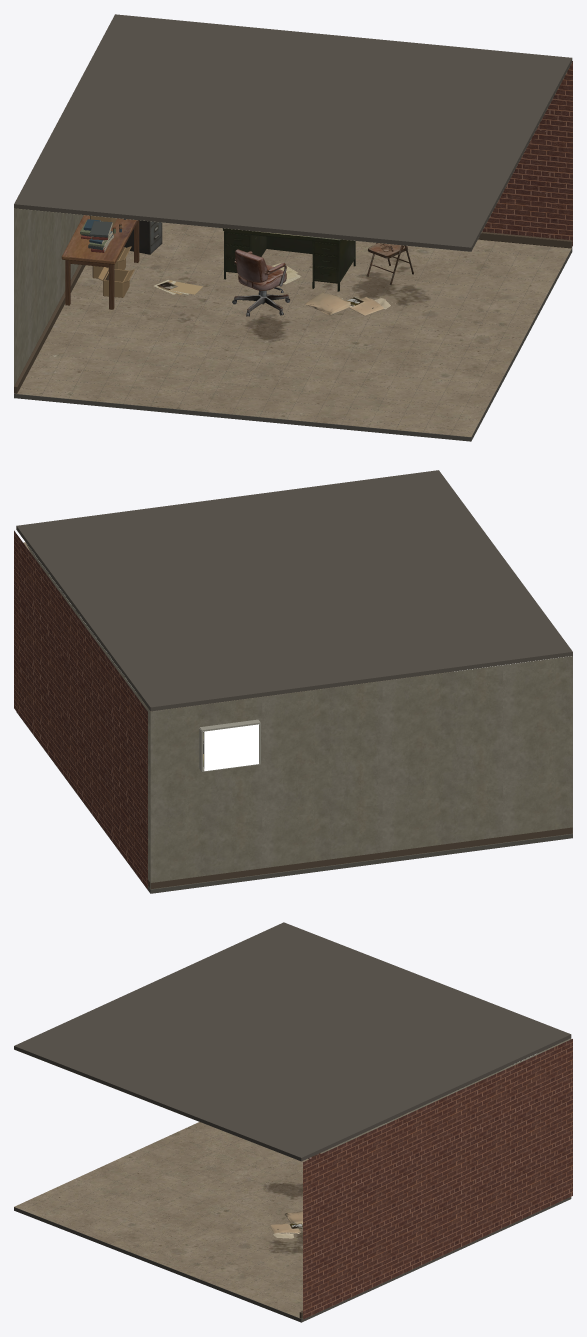
File: room-DJiCxxOG.glb
3 views of the same model, one above another, from view 1: azimuth 30°, elevation 25°; view 2: azimuth 150°, elevation 25°; view 3: azimuth 270°, elevation 25° (orthographic). The views are drawn at different scales.
Visible parts, largest first — view 1: object_0008_0008_2, object_0008_0008_1, object_0008_0008_5, object_0008_0008_7, object_0008_0008_0, object_0004_Mesh, object_0002_model, object_0008_0008_13, object_0010_0010_0, object_0013_model, object_0010_0010_9, object_0010_0010_1 (+2 smaller); view 2: object_0008_0008_2, object_0008_0008_7, object_0008_0008_5, object_0008_0008_13, object_0008_0008_0, object_0008_0008_11, object_0008_0008_4, object_0008_0008_8; view 3: object_0008_0008_2, object_0008_0008_5, object_0008_0008_1, object_0008_0008_0, object_0013_model, object_0008_0008_4.
Part boxes in pixels (left/top/right/bottom): object_0008_0008_2: left=14, top=14, right=572, bottom=251; object_0008_0008_1: left=15, top=222, right=571, bottom=436; object_0008_0008_5: left=482, top=61, right=572, bottom=246; object_0008_0008_7: left=14, top=208, right=83, bottom=386; object_0008_0008_0: left=14, top=229, right=572, bottom=441; object_0004_Mesh: left=223, top=228, right=355, bottom=291; object_0002_model: left=232, top=249, right=289, bottom=316; object_0008_0008_13: left=14, top=231, right=572, bottom=393; object_0010_0010_0: left=61, top=215, right=137, bottom=264; object_0013_model: left=304, top=292, right=395, bottom=315; object_0010_0010_9: left=90, top=216, right=134, bottom=297; object_0010_0010_1: left=65, top=220, right=139, bottom=309; object_0008_0008_2: left=16, top=470, right=572, bottom=711; object_0008_0008_7: left=150, top=656, right=572, bottom=889; object_0008_0008_5: left=14, top=530, right=147, bottom=889; object_0008_0008_13: left=148, top=827, right=572, bottom=888; object_0008_0008_0: left=16, top=712, right=572, bottom=893; object_0008_0008_11: left=204, top=724, right=258, bottom=770; object_0008_0008_4: left=26, top=543, right=150, bottom=889; object_0008_0008_8: left=199, top=719, right=260, bottom=771; object_0008_0008_2: left=14, top=922, right=571, bottom=1161; object_0008_0008_5: left=303, top=1039, right=572, bottom=1319; object_0008_0008_1: left=14, top=1122, right=378, bottom=1317; object_0008_0008_0: left=14, top=1126, right=571, bottom=1322; object_0013_model: left=270, top=1211, right=302, bottom=1239; object_0008_0008_4: left=320, top=1038, right=571, bottom=1153.
Bounding box in the file's own units: 15.55 × 5.05 × 15.55.
48 materials, 20 textured.
